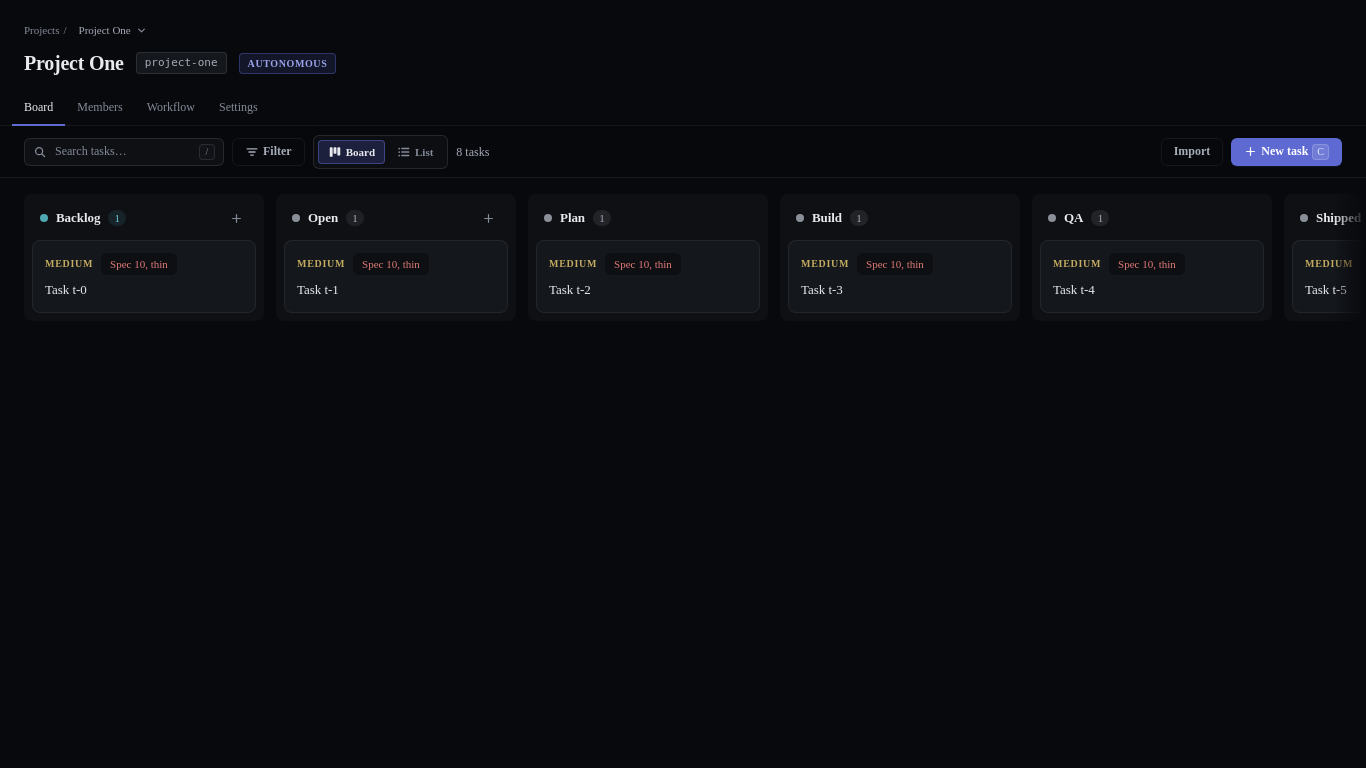
Test: board route columns from the project's workflows › renders the custom workflow's columns with the task in each of them
And the list-view chip row follows the same column list.
Click the tab "List": (415, 152) [387,140,443,164]
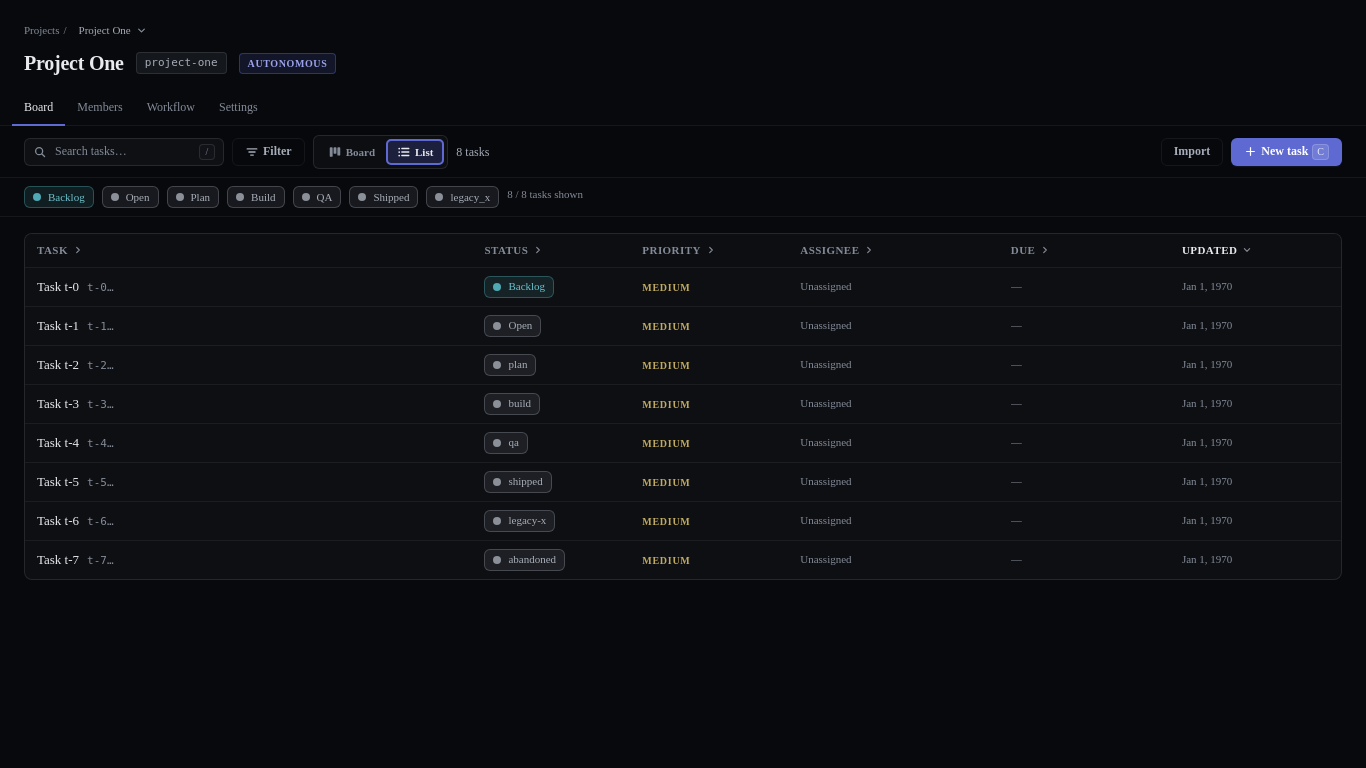
Now the element with class "db-status-summary" is shown, box [0,178,1365,217]
Now the element with class "db-status-summary" shows "QA", box [316,190,332,202]
Now the element with class "db-status-summary" shows "legacy_x", box [450,190,490,202]
